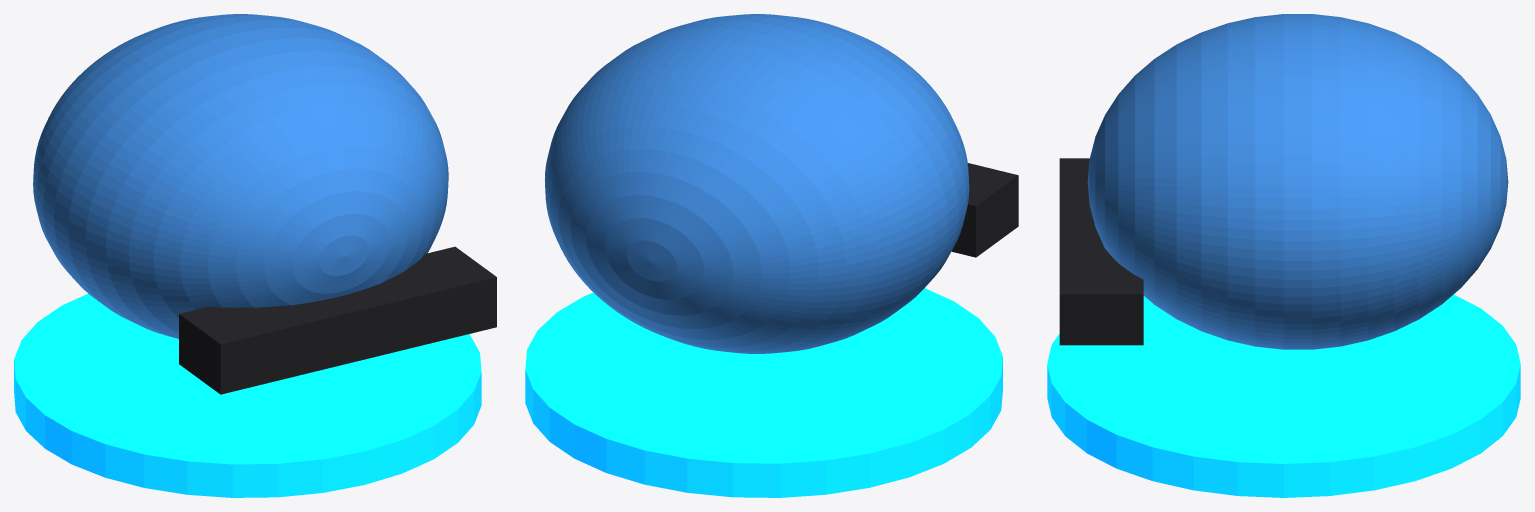
The model's file is sports_helmet.glb.
The picture shows the model from 3 angles, left to right: view 1: azimuth 30°, elevation 25°; view 2: azimuth 150°, elevation 25°; view 3: azimuth 270°, elevation 25°; orthographic projection. The views are drawn at different scales.
Visible parts, largest first — view 1: 04_09_Popular_Sports_Helmet_part_01, 04_09_Popular_Sports_Helmet_ROOT_base, 04_09_Popular_Sports_Helmet_part_02; view 2: 04_09_Popular_Sports_Helmet_part_01, 04_09_Popular_Sports_Helmet_ROOT_base, 04_09_Popular_Sports_Helmet_part_02; view 3: 04_09_Popular_Sports_Helmet_part_01, 04_09_Popular_Sports_Helmet_ROOT_base, 04_09_Popular_Sports_Helmet_part_02.
Part boxes in pixels (<box>): 04_09_Popular_Sports_Helmet_part_01: <box>33,14,448,338</box>; 04_09_Popular_Sports_Helmet_ROOT_base: <box>14,293,481,497</box>; 04_09_Popular_Sports_Helmet_part_02: <box>179,246,496,394</box>; 04_09_Popular_Sports_Helmet_part_01: <box>545,14,969,353</box>; 04_09_Popular_Sports_Helmet_ROOT_base: <box>525,288,1002,497</box>; 04_09_Popular_Sports_Helmet_part_02: <box>951,163,1018,257</box>; 04_09_Popular_Sports_Helmet_part_01: <box>1087,14,1508,349</box>; 04_09_Popular_Sports_Helmet_ROOT_base: <box>1047,294,1520,497</box>; 04_09_Popular_Sports_Helmet_part_02: <box>1059,158,1143,345</box>.
Bounding box in the file's own units: 0.76 × 0.6351 × 0.76.
